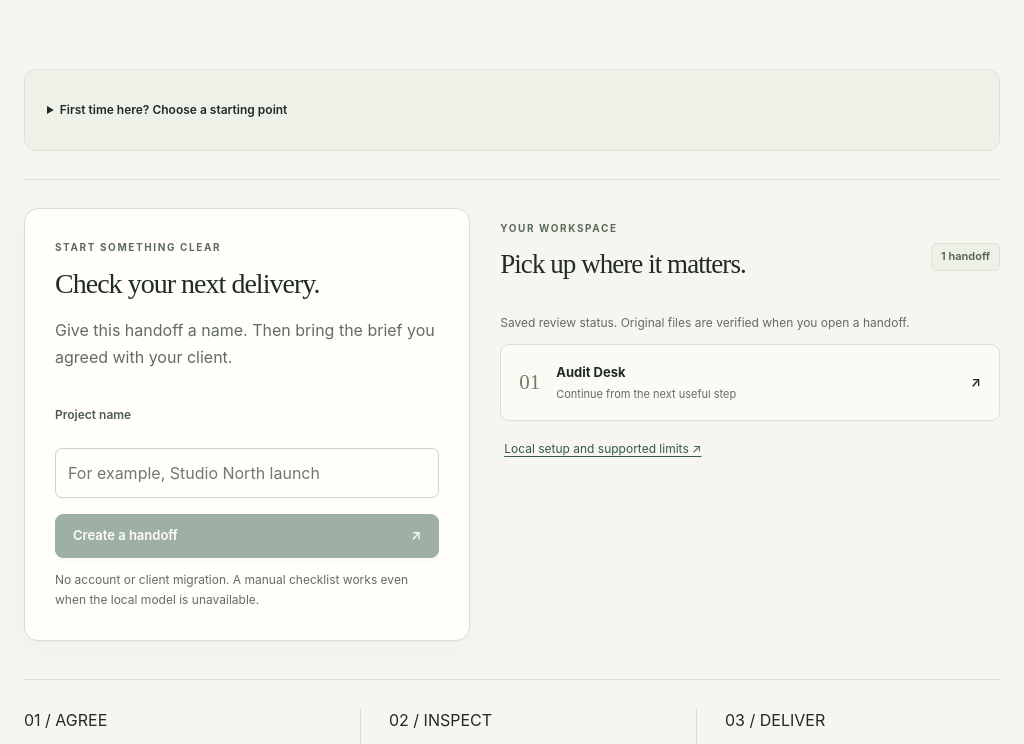
Test: Client-safe review projection › does not expose the exact private literal in a client-facing preview
The image size is (1024, 744).
(page scrolled)
Click the button with aria-label "Audit Desk ↗" at (591, 372), box [500, 344, 1000, 421]
(page scrolled)
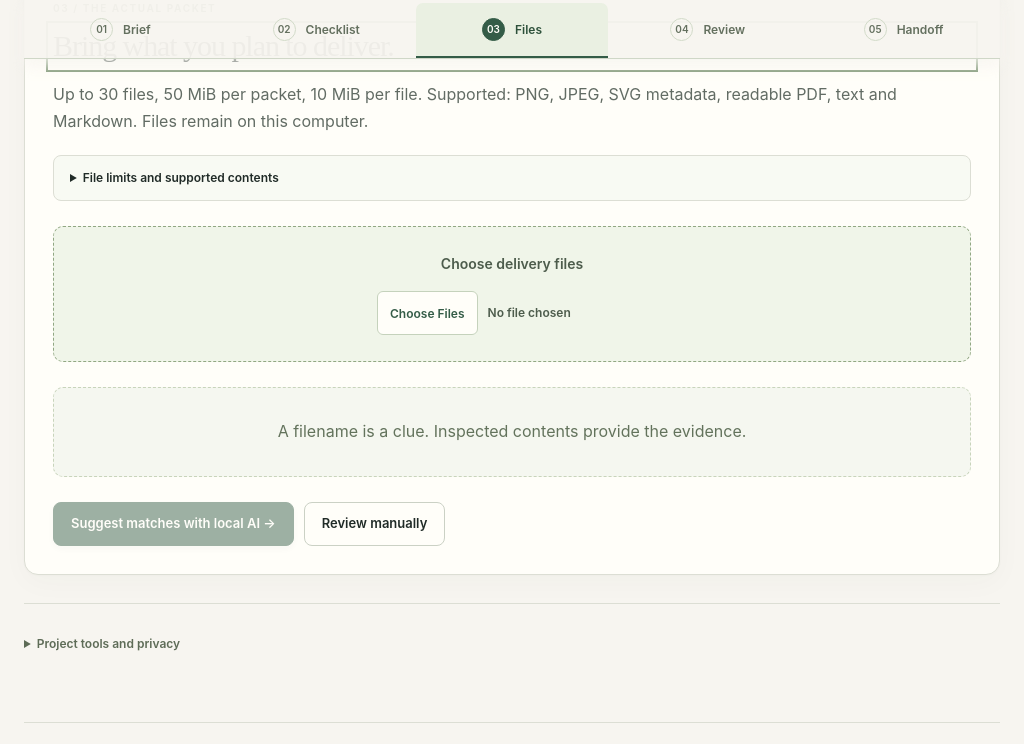
Click the button "05 Handoff" at (904, 30), box [807, 3, 1000, 58]
(page scrolled)
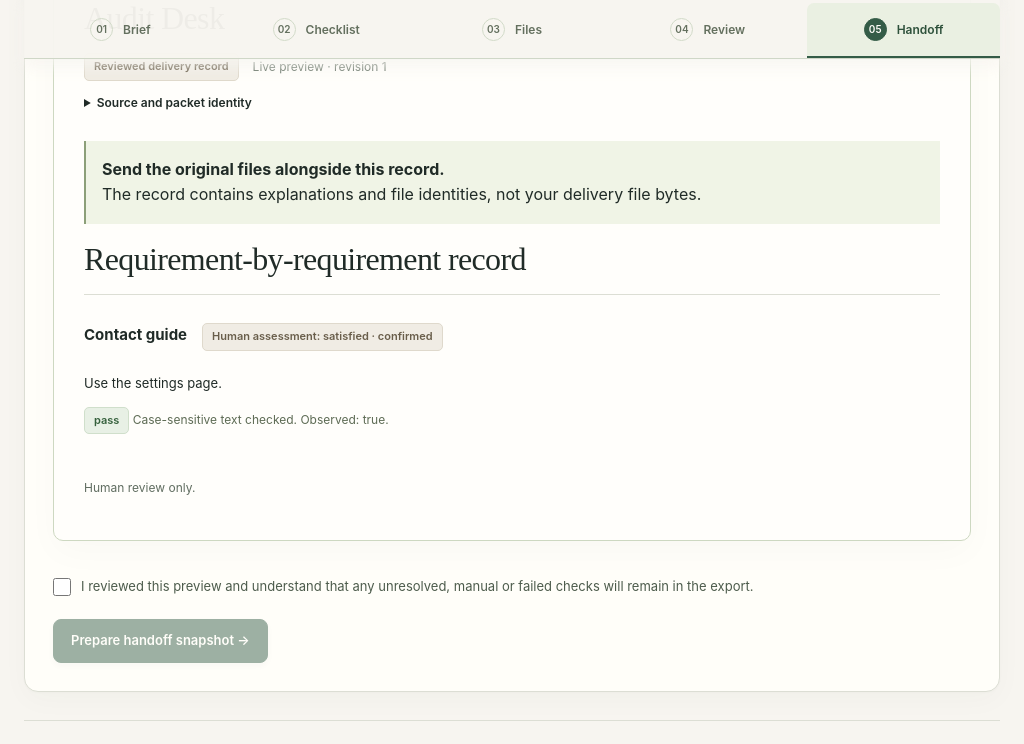
Check: the text "Use the settings page." is shown, box [84, 375, 222, 391]
